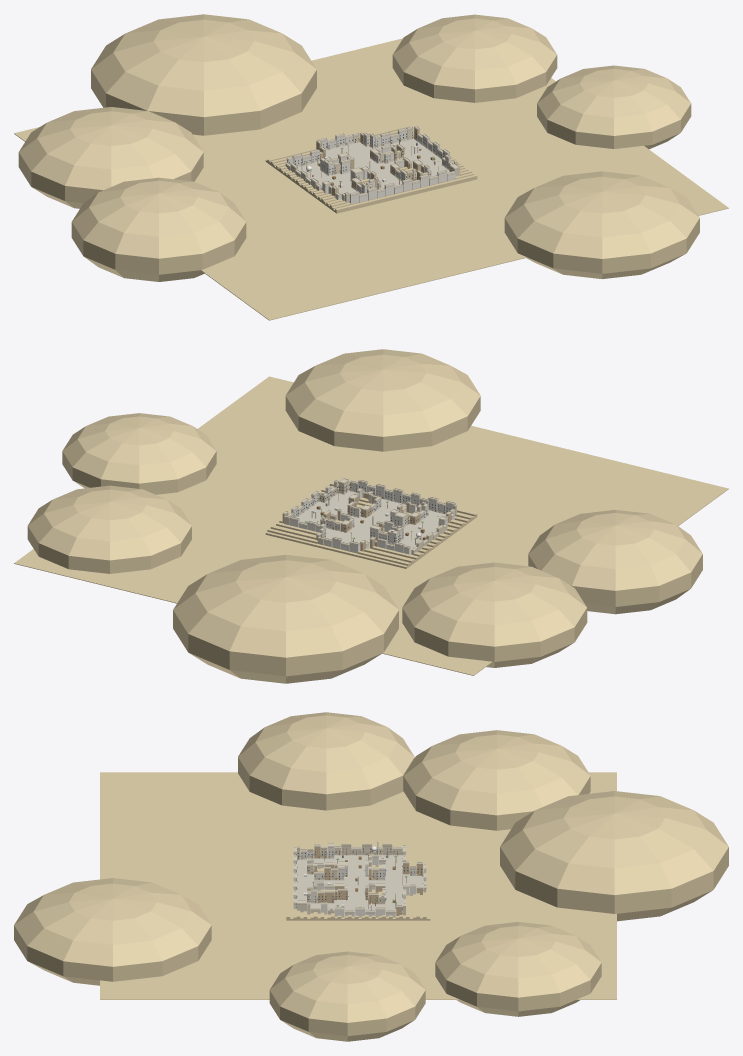
File: reactor09.glb
The picture shows the model from 3 angles, top to bottom: view 1: azimuth 30°, elevation 25°; view 2: azimuth 150°, elevation 25°; view 3: azimuth 270°, elevation 25°; orthographic projection.
Visible parts, largest first — view 1: desert, bldg_white, street, cliffs, roofs, trim, bldg_tan, bldg_cream; view 2: desert, bldg_white, cliffs, street, roofs, trim, bldg_tan, bldg_cream; view 3: desert, street, cliffs, roofs, bldg_white, bldg_cream, bldg_tan, trim.
Boxes of the visible parts, x1,y1,x2,y2 form: desert: [14, 14, 728, 320]; bldg_white: [287, 130, 455, 204]; street: [298, 139, 449, 202]; cliffs: [265, 125, 477, 213]; roofs: [285, 126, 459, 196]; trim: [286, 128, 459, 204]; bldg_tan: [316, 128, 428, 196]; bldg_cream: [285, 128, 459, 202]; desert: [14, 349, 728, 683]; bldg_white: [289, 481, 455, 554]; cliffs: [265, 479, 477, 568]; street: [297, 491, 445, 554]; roofs: [282, 478, 457, 551]; trim: [283, 481, 455, 553]; bldg_tan: [282, 493, 451, 551]; bldg_cream: [284, 481, 456, 554]; desert: [14, 712, 728, 1041]; street: [297, 855, 422, 916]; cliffs: [286, 847, 430, 920]; roofs: [293, 843, 426, 912]; bldg_white: [293, 846, 426, 916]; bldg_cream: [297, 846, 426, 915]; bldg_tan: [307, 846, 422, 915]; trim: [294, 846, 425, 917].
Size of the model in its own units: 13320 by 1760 by 13397.
